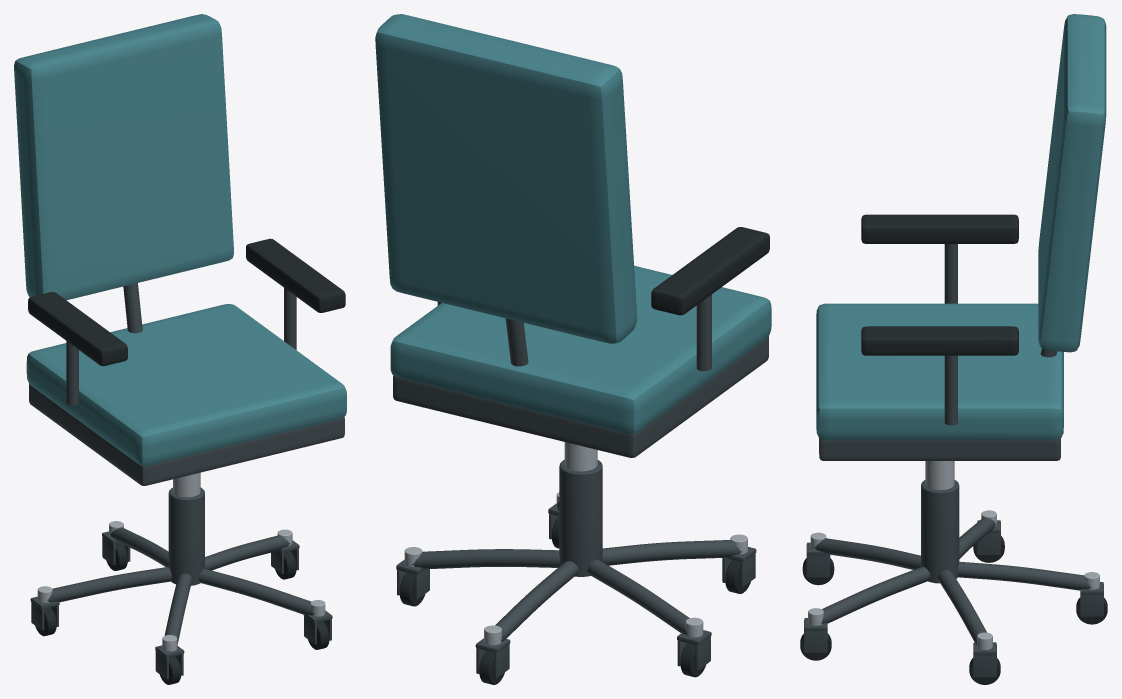
File: reception_chair.fbx
3 views of the same model, side by side, from view 1: azimuth 30°, elevation 25°; view 2: azimuth 150°, elevation 25°; view 3: azimuth 270°, elevation 25° (orthographic). The views are drawn at different scales.
Visible parts, largest first — view 1: EQ_reception_chair_M_ChairFabric, EQ_reception_chair_M_PlasticGrey, EQ_reception_chair_M_RubberBlack, EQ_reception_chair_M_SteelBrushed; view 2: EQ_reception_chair_M_ChairFabric, EQ_reception_chair_M_PlasticGrey, EQ_reception_chair_M_RubberBlack, EQ_reception_chair_M_SteelBrushed; view 3: EQ_reception_chair_M_ChairFabric, EQ_reception_chair_M_PlasticGrey, EQ_reception_chair_M_RubberBlack, EQ_reception_chair_M_SteelBrushed.
Part boxes in pixels (x1,y1,x2,y2): EQ_reception_chair_M_ChairFabric: (14,14,346,465); EQ_reception_chair_M_PlasticGrey: (29,283,344,679); EQ_reception_chair_M_RubberBlack: (28,238,345,684); EQ_reception_chair_M_SteelBrushed: (37,472,325,651); EQ_reception_chair_M_ChairFabric: (375,14,771,433); EQ_reception_chair_M_PlasticGrey: (393,294,768,678); EQ_reception_chair_M_RubberBlack: (399,227,769,684); EQ_reception_chair_M_SteelBrushed: (404,442,747,645); EQ_reception_chair_M_ChairFabric: (816,14,1106,440); EQ_reception_chair_M_PlasticGrey: (804,244,1103,677); EQ_reception_chair_M_RubberBlack: (800,214,1107,684); EQ_reception_chair_M_SteelBrushed: (808,461,1099,649).
Size of the model in its own units: 0.5535 by 1.1 by 0.5466.
